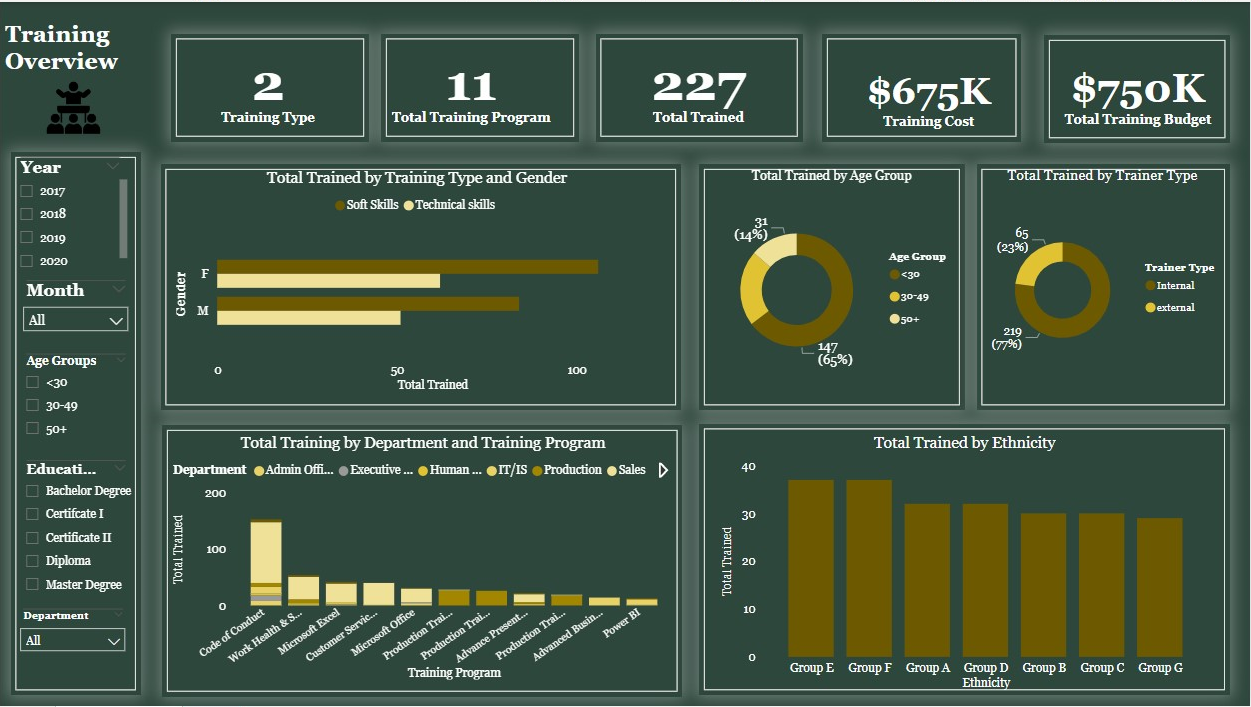

The dashboard page shown, as its layout file describes it:
{"tool":"powerbi","page":{"name":"Training","canvas":[1280,720],"ordinal":1},"visuals":[{"type":"shape","box":[10.7,153.5,133.6,555.7],"z":0},{"type":"textbox","box":[0,13.8,207.2,110.5],"z":1},{"type":"slicer","fields":{"Values":["AgeGroup.Age Group"]},"box":[13.8,354.6,127.4,98.3],"z":2},{"type":"slicer","fields":{"Values":["Calendar.Month Name"]},"box":[13.8,279.4,127.4,67.5],"z":4},{"type":"slicer","fields":{"Values":["Calendar.Year"]},"box":[7.7,153.5,127.4,125.9],"z":5},{"type":"slicer","fields":{"Values":["Department.Department"]},"box":[10.7,615.6,127.4,62.9],"z":6},{"type":"slicer","fields":{"Values":["Education.Education"]},"box":[13.8,463.6,127.4,152],"z":7},{"type":"shape","box":[841.3,32.2,204.2,110.5],"z":8},{"type":"shape","box":[389.9,32.2,202.6,110.5],"z":9},{"type":"shape","box":[609.5,32.2,211.9,110.5],"z":10},{"type":"shape","box":[175,32.2,202.6,110.5],"z":11},{"type":"card","fields":{"Values":["#DAX.Total Training Program"]},"box":[389.9,35.3,184.2,98.3],"z":12},{"type":"card","fields":{"Values":["#DAX.Training Type"]},"box":[191.9,23,164.3,124.3],"z":13},{"type":"card","fields":{"Values":["#DAX.Total Trained"]},"box":[632.5,39.9,164.3,90.6],"z":14},{"type":"card","fields":{"Values":["#DAX.Training Cost"]},"box":[855.1,43,190.4,105.9],"z":15},{"type":"shape","box":[1068.5,33.8,190.4,110.5],"z":16},{"type":"card","fields":{"Values":["#DAX.Total Training Budget"]},"box":[1082.3,47.6,164.3,90.6],"z":17},{"type":"shape","box":[999.4,165.8,259.4,251.8],"z":18},{"type":"shape","box":[715.4,165.8,271.7,251.8],"z":19},{"type":"shape","box":[715.4,431.4,543.5,277.9],"z":20},{"type":"shape","box":[164.3,165.8,532.7,251.8],"z":21},{"type":"shape","box":[165.8,432.9,532.7,277.9],"z":22},{"type":"donutChart","fields":{"Y":["#DAX.Total Trained"],"Category":["Training.Trainer Type"]},"box":[997.9,168.9,261,234.9],"z":23},{"type":"donutChart","fields":{"Y":["#DAX.Total Trained"],"Category":["AgeGroup.Age Group"]},"box":[715.4,170.4,271.7,233.3],"z":24},{"type":"clusteredColumnChart","title":"Total Trained by Ethnicity","fields":{"Y":["#DAX.Total Trained"],"Category":["Ethnicity.Ethnicity"]},"box":[733.8,442.1,506.6,267.1],"z":25},{"type":"clusteredBarChart","title":"Total Trained by Training Type and Gender","fields":{"Category":["Employees.Gender"],"Y":["#DAX.Total Trained"],"Series":["Training.Training Type"]},"box":[175,170.4,503.5,233.3],"z":26},{"type":"lineStackedColumnComboChart","title":"Total Training by Training Program","fields":{"Category":["Training.Training Program"],"Y":["#DAX.Total Trained"],"Series":["Department.Department"]},"box":[171.9,442.1,522,256.4],"z":27},{"type":"image","box":[29.2,73.7,92.1,69.1],"z":28}]}

Visuals, with their boxes in screenshot pixels (x1, y1, x2, y2), scaled from the page's 1280x720 canvas onto the 1251x707 screenshot:
shape: <region>10, 151, 141, 696</region>
textbox: <region>0, 14, 203, 122</region>
slicer - AgeGroup.Age Group: <region>13, 348, 138, 445</region>
slicer - Calendar.Month Name: <region>13, 274, 138, 341</region>
slicer - Calendar.Year: <region>8, 151, 132, 274</region>
slicer - Department.Department: <region>10, 604, 135, 666</region>
slicer - Education.Education: <region>13, 455, 138, 604</region>
shape: <region>822, 32, 1022, 140</region>
shape: <region>381, 32, 579, 140</region>
shape: <region>596, 32, 803, 140</region>
shape: <region>171, 32, 369, 140</region>
card - #DAX.Total Training Program: <region>381, 35, 561, 131</region>
card - #DAX.Training Type: <region>188, 23, 348, 145</region>
card - #DAX.Total Trained: <region>618, 39, 779, 128</region>
card - #DAX.Training Cost: <region>836, 42, 1022, 146</region>
shape: <region>1044, 33, 1230, 142</region>
card - #DAX.Total Training Budget: <region>1058, 47, 1218, 136</region>
shape: <region>977, 163, 1230, 410</region>
shape: <region>699, 163, 965, 410</region>
shape: <region>699, 424, 1230, 696</region>
shape: <region>161, 163, 681, 410</region>
shape: <region>162, 425, 683, 698</region>
donutChart - #DAX.Total Trained x Training.Trainer Type: <region>975, 166, 1230, 397</region>
donutChart - #DAX.Total Trained x AgeGroup.Age Group: <region>699, 167, 965, 396</region>
"Total Trained by Ethnicity" clusteredColumnChart: <region>717, 434, 1212, 696</region>
"Total Trained by Training Type and Gender" clusteredBarChart: <region>171, 167, 663, 396</region>
"Total Training by Training Program" lineStackedColumnComboChart: <region>168, 434, 678, 686</region>
image: <region>29, 72, 119, 140</region>
